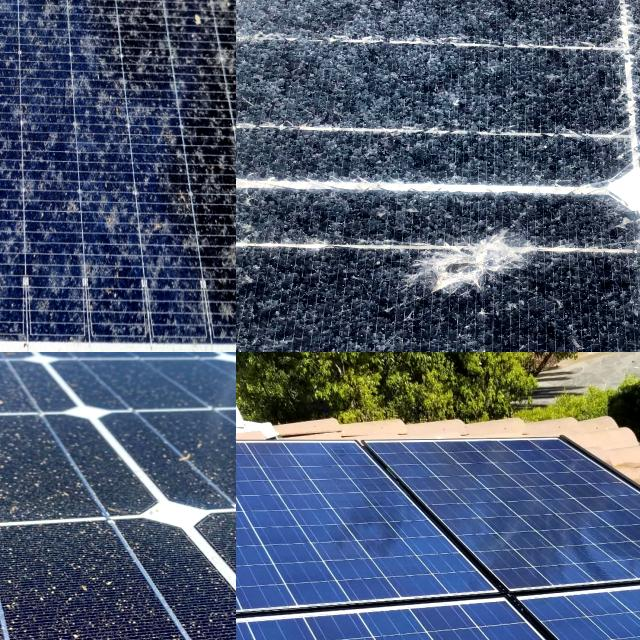crack: (428, 623, 523, 640), (370, 616, 422, 640), (236, 617, 277, 640)
dust: (0, 0, 236, 325), (0, 0, 102, 293), (54, 560, 216, 640), (0, 0, 236, 53), (0, 430, 95, 512)
hotspot: (399, 213, 612, 332)
